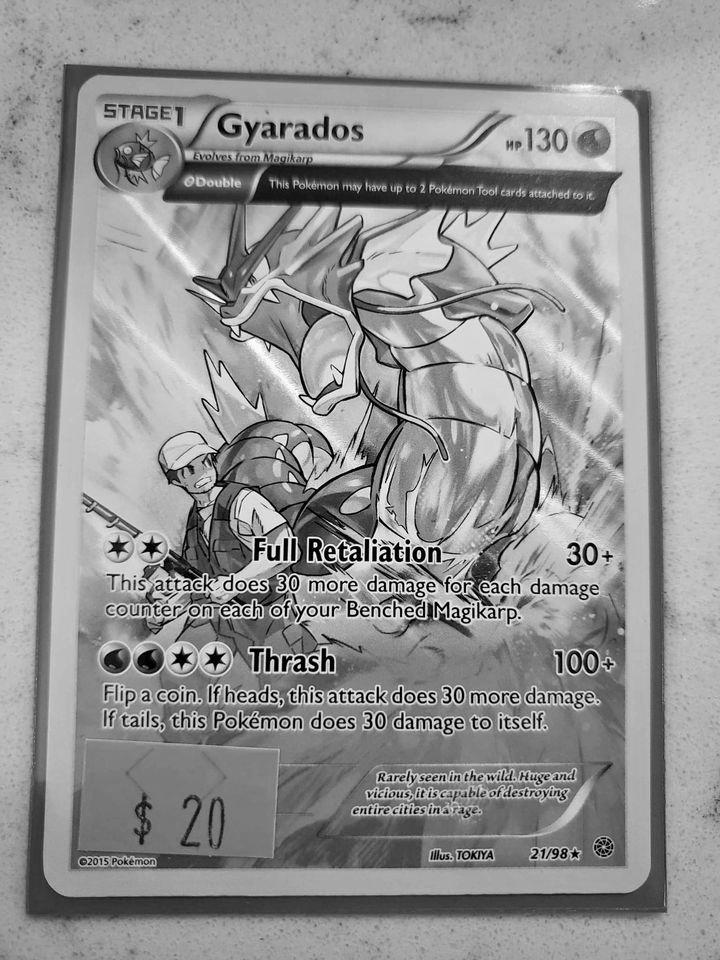card: (40, 75, 651, 899)
